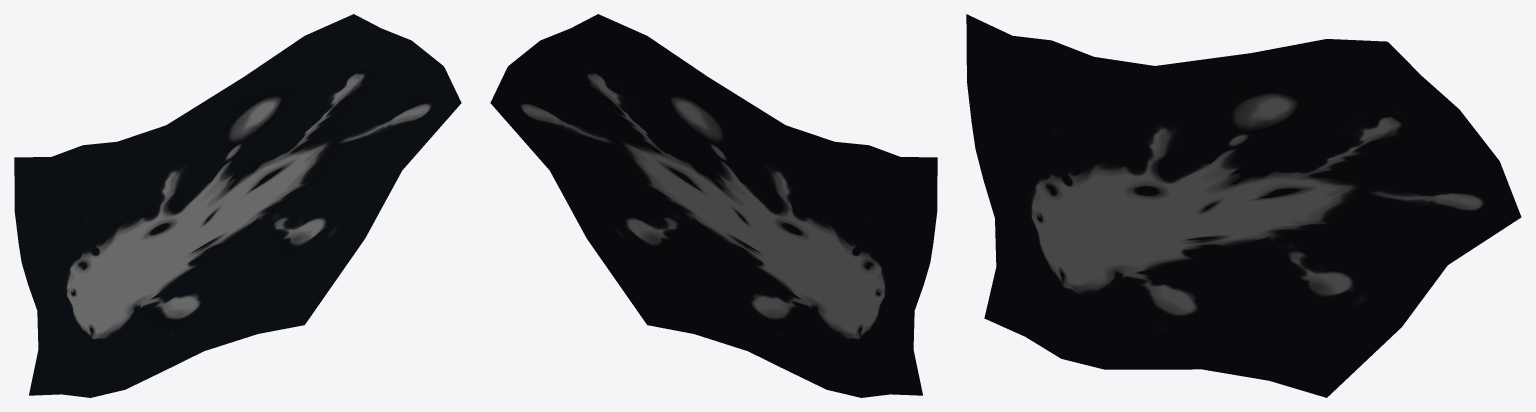
Rendered from effect_models-03_deadblood_rw.FBX.
3 views of the same model, side by side, from view 1: azimuth 30°, elevation 25°; view 2: azimuth 150°, elevation 25°; view 3: azimuth 330°, elevation 25° (orthographic). The views are drawn at different scales.
Visible parts, largest first — view 1: Plane001; view 2: Plane001; view 3: Plane001.
Part boxes in pixels (bbox=[...]): Plane001: bbox=[14, 14, 461, 397]; Plane001: bbox=[490, 14, 937, 397]; Plane001: bbox=[966, 14, 1521, 397].
Bounding box in the file's own units: 86.18 × 58.91 × 2.58e-06.
Materials: 1 (1 with a texture image).
